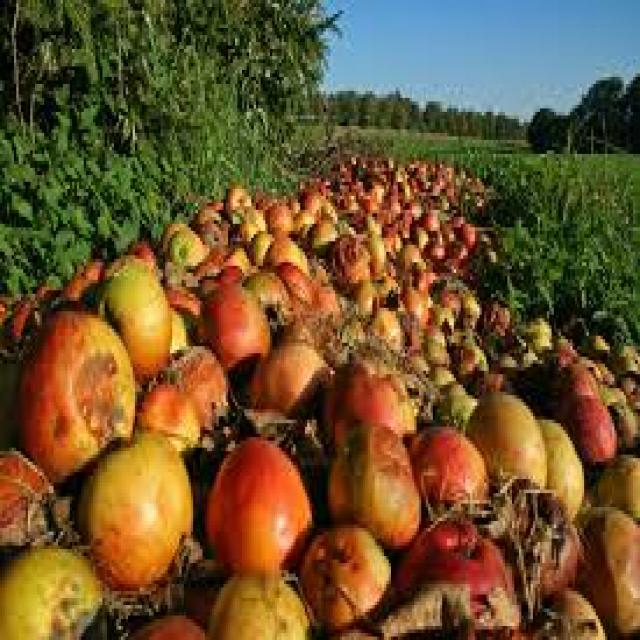food_waste: (59, 323, 562, 610), (336, 151, 478, 620)
